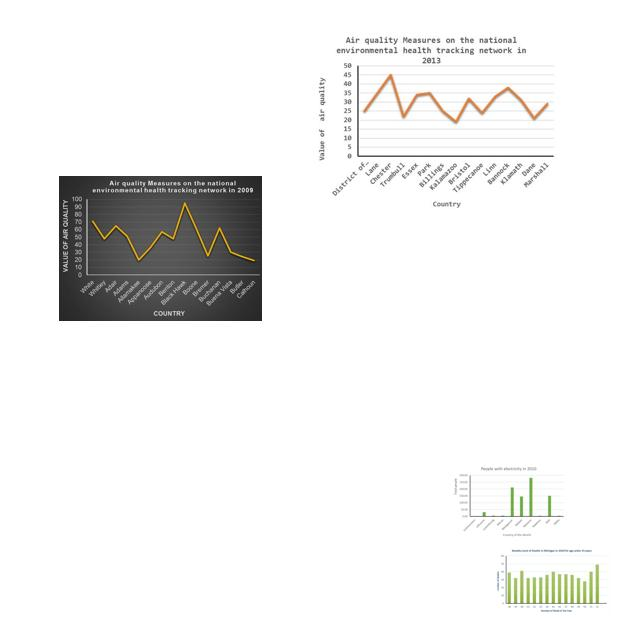Graph: (306, 32, 559, 211), (59, 176, 262, 321), (451, 464, 567, 540), (494, 547, 610, 615)
